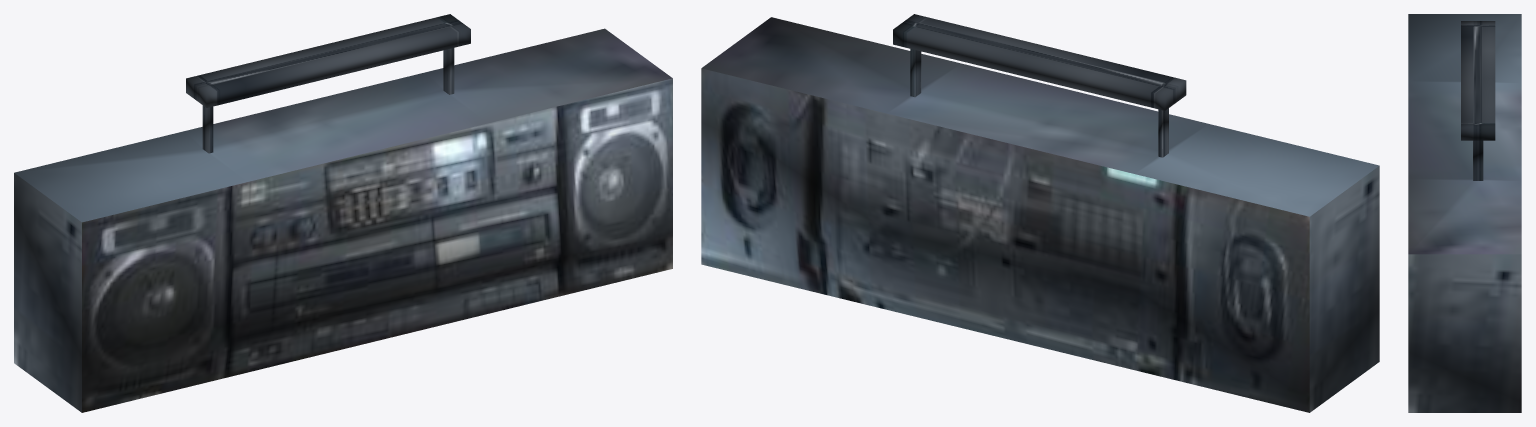
File: boombox.FBX
The picture shows the model from 3 angles, left to right: view 1: azimuth 30°, elevation 25°; view 2: azimuth 150°, elevation 25°; view 3: azimuth 270°, elevation 25°; orthographic projection. The views are drawn at different scales.
Parts seen in each view (by area): view 1: boombox; view 2: boombox; view 3: boombox.
Part boxes in pixels (x1,y1,x2,y2): boombox: [14, 14, 672, 412]; boombox: [701, 14, 1379, 412]; boombox: [1408, 14, 1521, 412].
Size of the model in its own units: 77.48 by 32.35 by 15.44.
